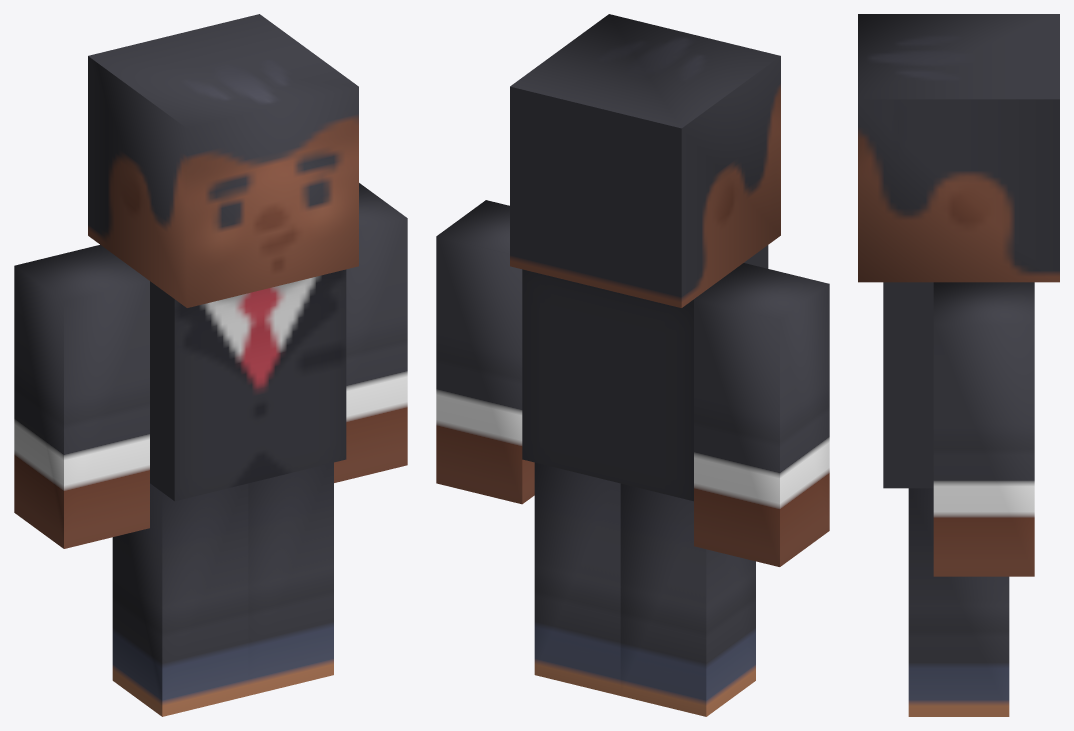
File: peaton-8.glb
The picture shows the model from 3 angles, left to right: view 1: azimuth 30°, elevation 25°; view 2: azimuth 150°, elevation 25°; view 3: azimuth 270°, elevation 25°; orthographic projection.
Parts seen in each view (by area): view 1: peaton-8; view 2: peaton-8; view 3: peaton-8.
Part boxes in pixels (left/top/right/bottom): peaton-8: left=14, top=14, right=407, bottom=716; peaton-8: left=436, top=14, right=829, bottom=716; peaton-8: left=858, top=14, right=1059, bottom=716.
Size of the model in its own units: 1.04 by 1.75 by 0.5185.
Materials: 1 (1 with a texture image).
